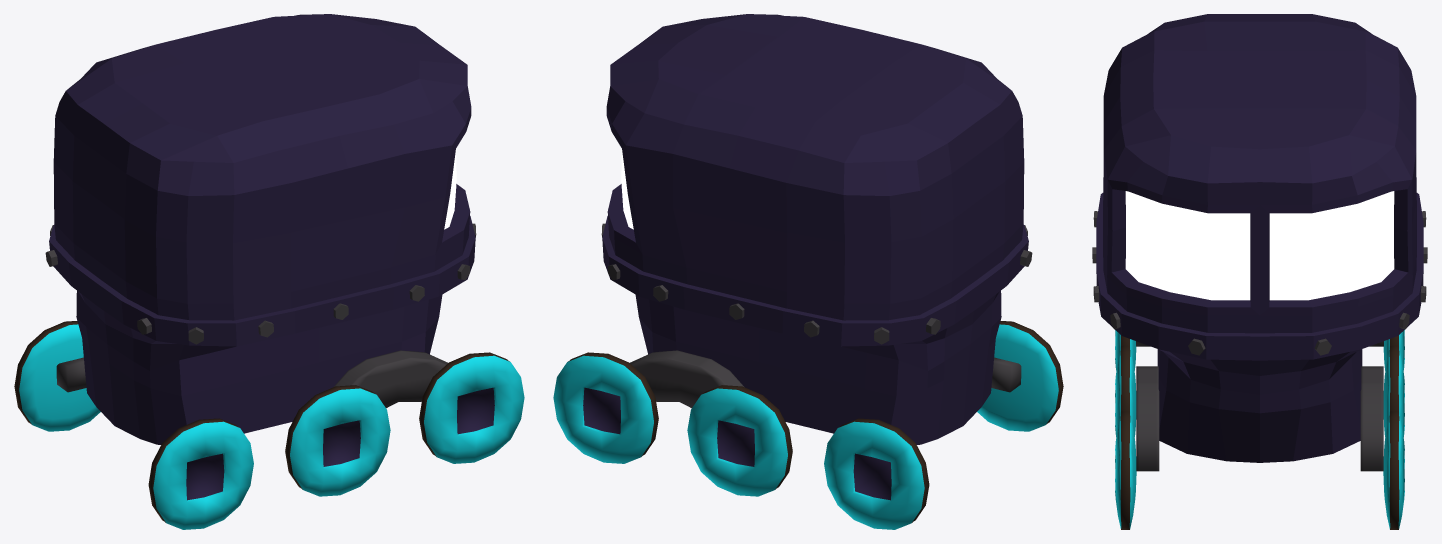
The model's file is robot_car.glb.
3 views of the same model, side by side, from view 1: azimuth 30°, elevation 25°; view 2: azimuth 150°, elevation 25°; view 3: azimuth 270°, elevation 25° (orthographic).
Parts seen in each view (by area): view 1: 213; view 2: 213; view 3: 213.
Boxes of the visible parts, box(x1,y1,x2,y2) form: 213: box(14, 14, 524, 529); 213: box(553, 14, 1063, 529); 213: box(1092, 14, 1427, 529).
Size of the model in its own units: 0.7531 by 0.7295 by 0.5865.
